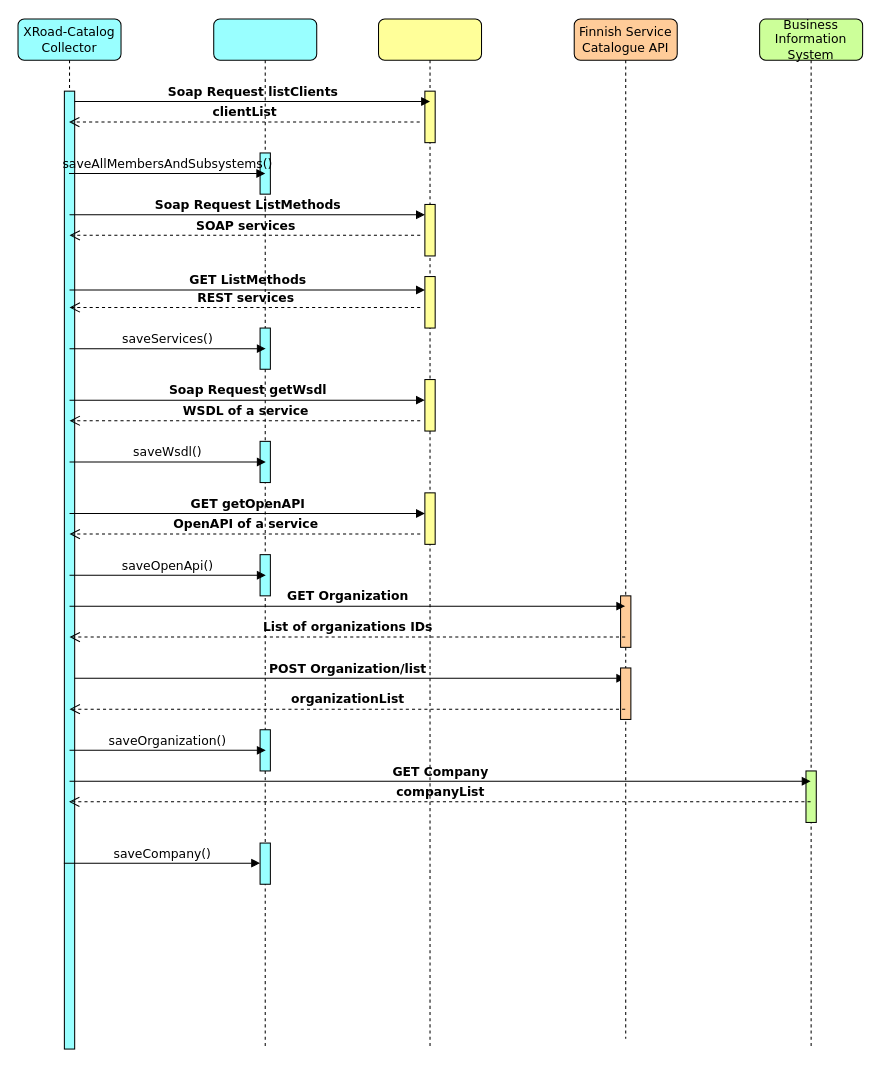
Image size: 881x1067. Some labels were removed from this diagram. Here are the shapes that lost their labels. From the top down, the centre of each, then its label:
the point at 265,533: CatalogService
the point at 429,533: XRoad SS
